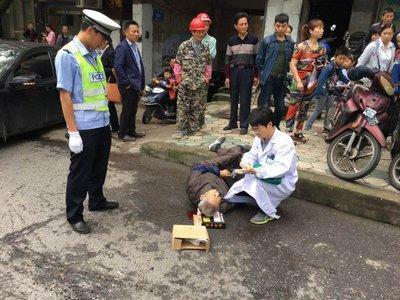Fall-Detected: (176, 130, 252, 226)
